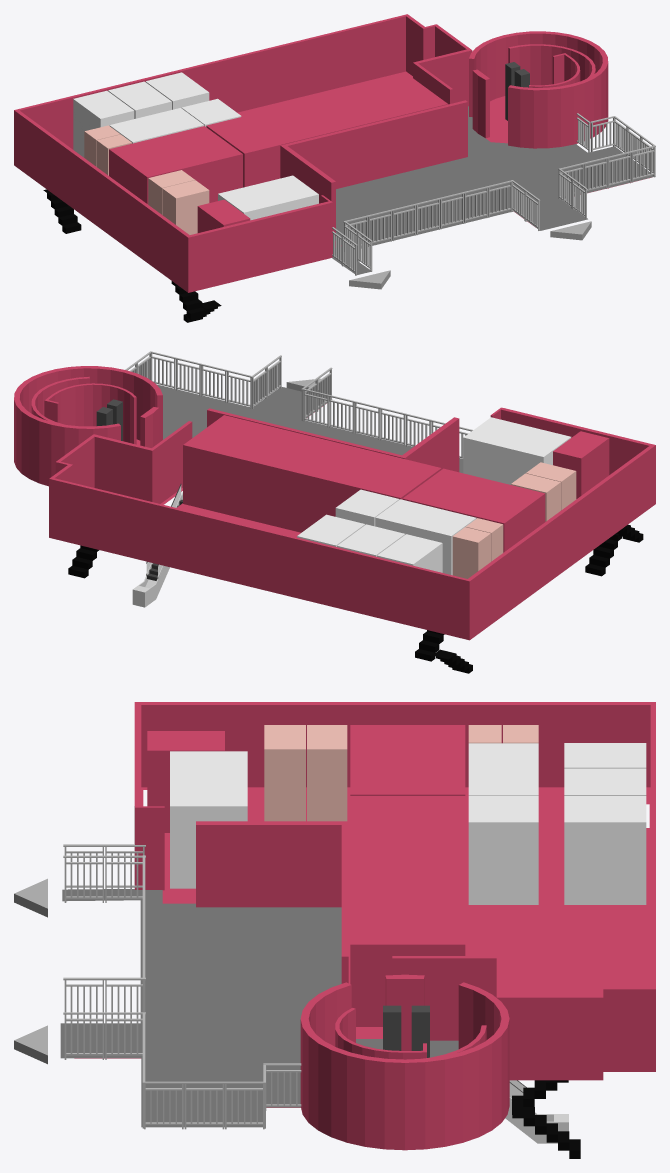
The picture shows the model from 3 angles, top to bottom: view 1: azimuth 30°, elevation 25°; view 2: azimuth 150°, elevation 25°; view 3: azimuth 270°, elevation 25°; orthographic projection. The views are drawn at different scales.
Visible parts, largest first — view 1: object, object_9_2, 教員室, ゼミ98A, 書道室, 男子トイレ_9_8_2, ゼミ98C, ゼミ98B, ゼミ98F, 女子トイレ_9_8_2, 階段_9_8_1, 階段_9_8_2 (+5 smaller); view 2: object, object_9_2, 教員室, 書道室, 女子トイレ_9_8_1, ゼミ98A, ゼミ98F, ゼミ98B, ゼミ98C, エスカレーター_9_8, 階段_9_8_2, 階段_9_8_1 (+5 smaller); view 3: object, object_9_2, ゼミ98C, ゼミ98F, 教員室, 男子トイレ_9_8_2, 女子トイレ_9_8_2, 書道室, ゼミ98B, ゼミ98A, 階段_9_8_3, エレベーター_9_8 (+4 smaller).
Part boxes in pixels (x1=…): object: x1=14, y1=14, x2=655, y2=292; object_9_2: x1=332, y1=113, x2=655, y2=275; 教員室: x1=218, y1=175, x2=318, y2=220; ゼミ98A: x1=73, y1=90, x2=134, y2=157; 書道室: x1=109, y1=108, x2=204, y2=143; 男子トイレ_9_8_2: x1=162, y1=180, x2=209, y2=234; ゼミ98C: x1=145, y1=72, x2=209, y2=109; ゼミ98B: x1=108, y1=81, x2=171, y2=118; ゼミ98F: x1=181, y1=98, x2=241, y2=126; 女子トイレ_9_8_2: x1=148, y1=170, x2=194, y2=214; 階段_9_8_1: x1=171, y1=281, x2=221, y2=322; 階段_9_8_2: x1=43, y1=189, x2=81, y2=233; object: x1=14, y1=366, x2=655, y2=640; object_9_2: x1=125, y1=351, x2=472, y2=458; 教員室: x1=463, y1=417, x2=571, y2=484; 書道室: x1=375, y1=499, x2=476, y2=575; 女子トイレ_9_8_1: x1=452, y1=527, x2=490, y2=578; ゼミ98A: x1=377, y1=534, x2=442, y2=572; ゼミ98F: x1=335, y1=489, x2=399, y2=526; ゼミ98B: x1=337, y1=524, x2=405, y2=556; ゼミ98C: x1=297, y1=514, x2=365, y2=546; エスカレーター_9_8: x1=132, y1=484, x2=182, y2=607; 階段_9_8_2: x1=415, y1=630, x2=472, y2=673; 階段_9_8_1: x1=585, y1=524, x2=643, y2=576; object: x1=60, y1=702, x2=655, y2=1150; object_9_2: x1=63, y1=844, x2=301, y2=1129; ゼミ98C: x1=564, y1=796, x2=646, y2=904; ゼミ98F: x1=468, y1=796, x2=538, y2=904; 教員室: x1=170, y1=751, x2=247, y2=888; 男子トイレ_9_8_2: x1=264, y1=725, x2=305, y2=821; 女子トイレ_9_8_2: x1=307, y1=725, x2=347, y2=821; 書道室: x1=468, y1=743, x2=538, y2=795; ゼミ98B: x1=564, y1=768, x2=646, y2=795; ゼミ98A: x1=564, y1=743, x2=646, y2=768; 階段_9_8_3: x1=512, y1=1080, x2=580, y2=1158; エレベーター_9_8: x1=383, y1=1005, x2=429, y2=1057.
Size of the model in its own units: 1.69 by 0.4189 by 1.25.
